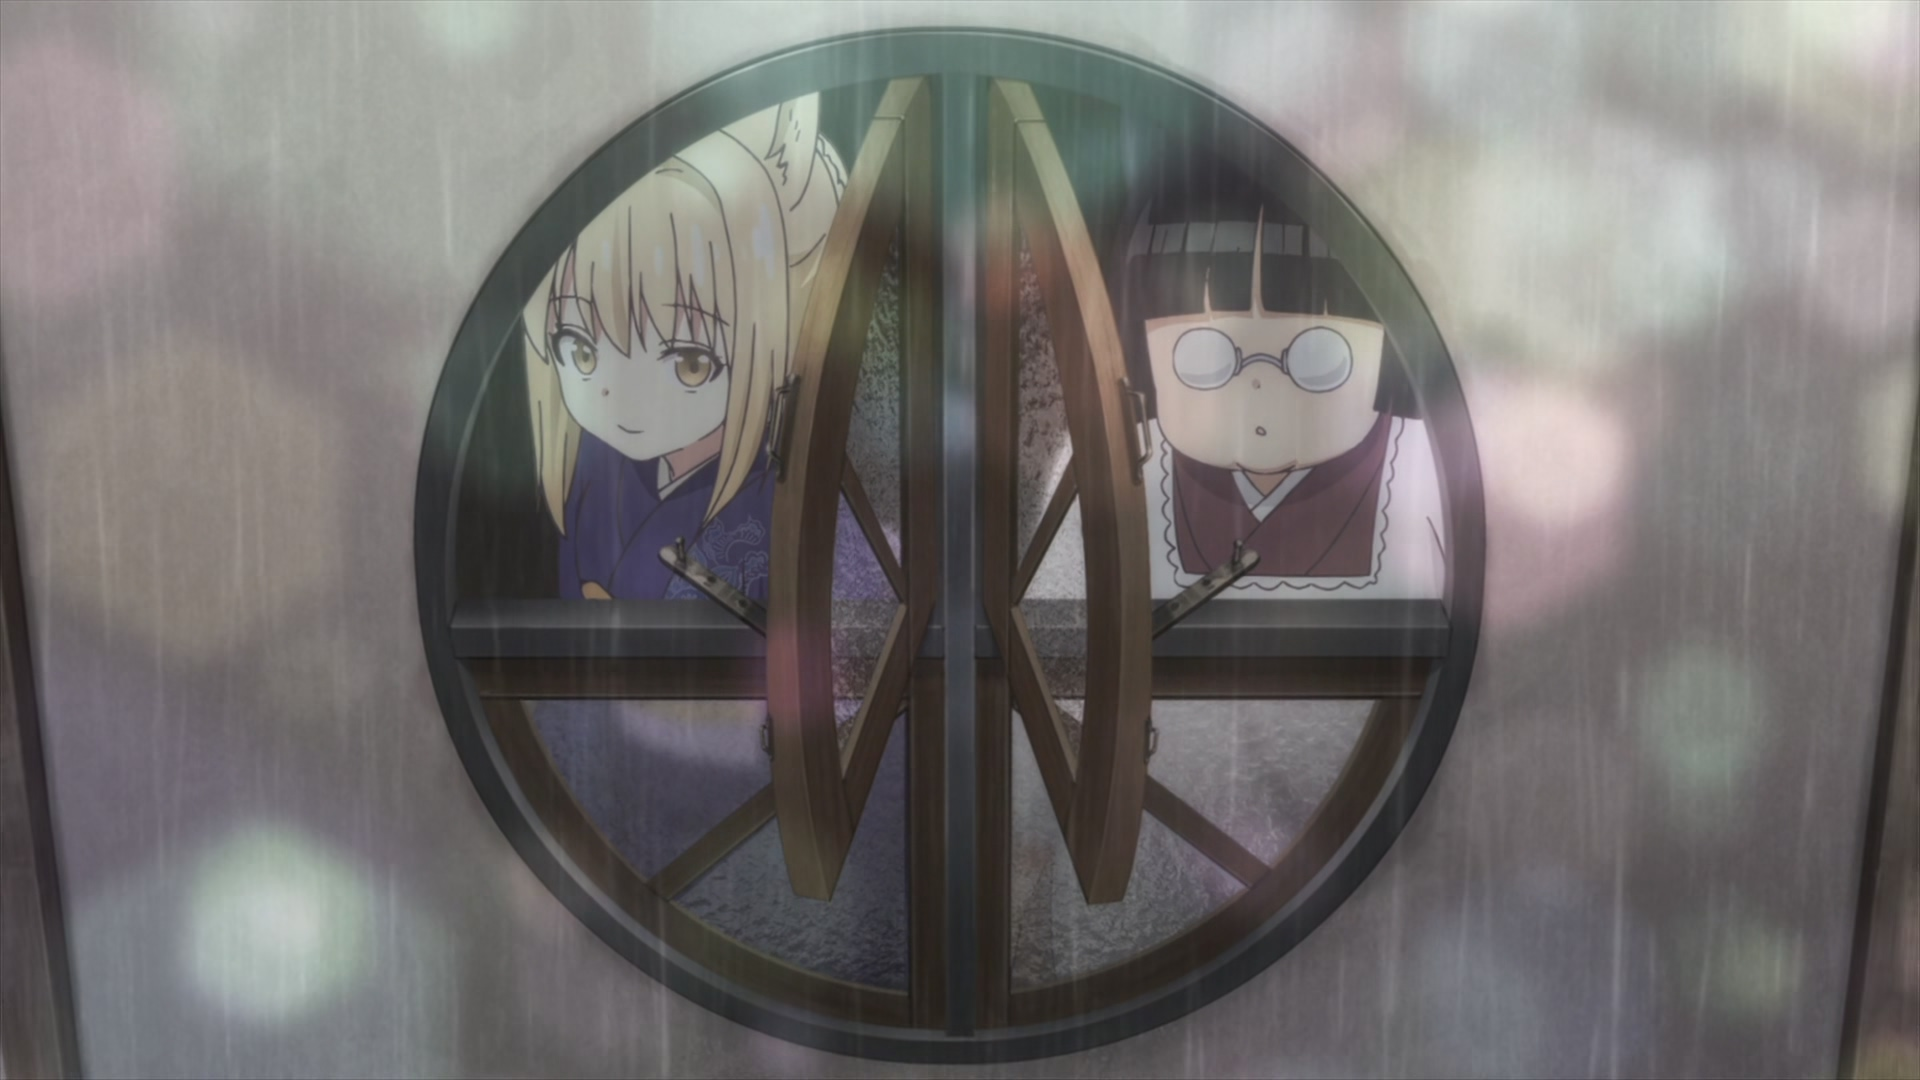其他: (1018, 152, 1451, 600)
桐: (520, 91, 891, 597)
